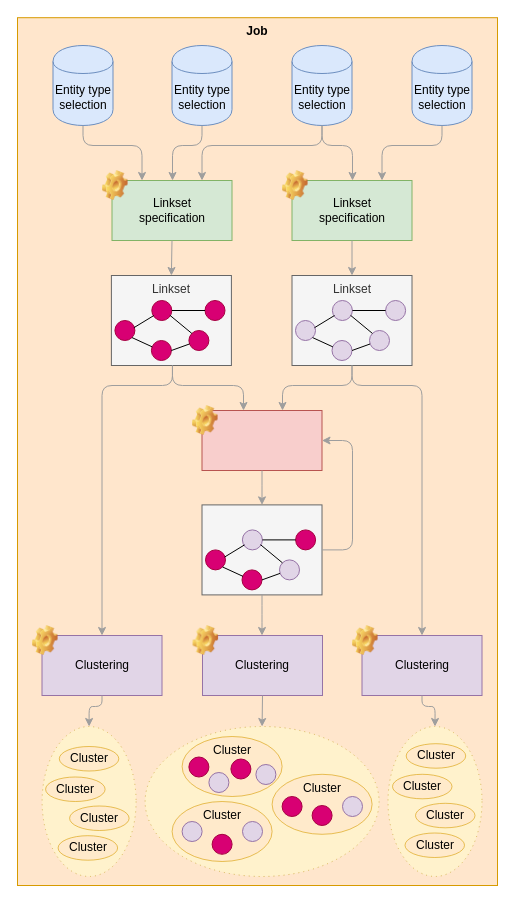
This 515x903 diagram has some shape labels left out. Each missing label, with the box of its shape:
Lens: (201, 504, 322, 595)
Lens specification: (201, 410, 322, 470)
